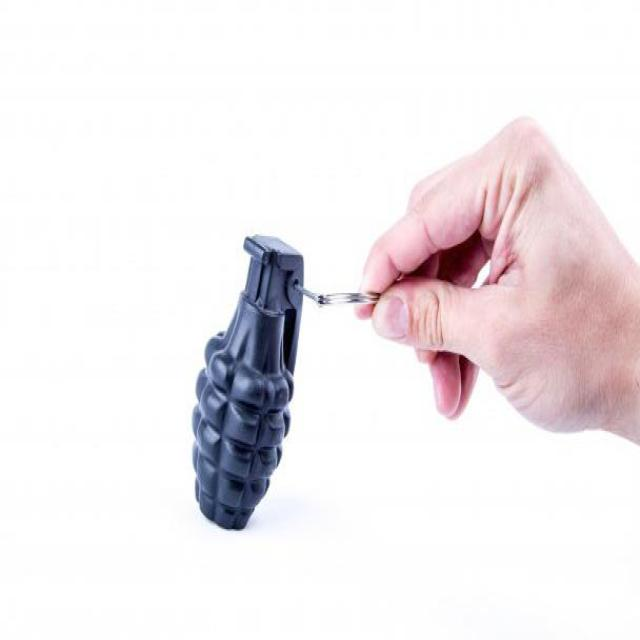grenade: (191, 236, 305, 532)
